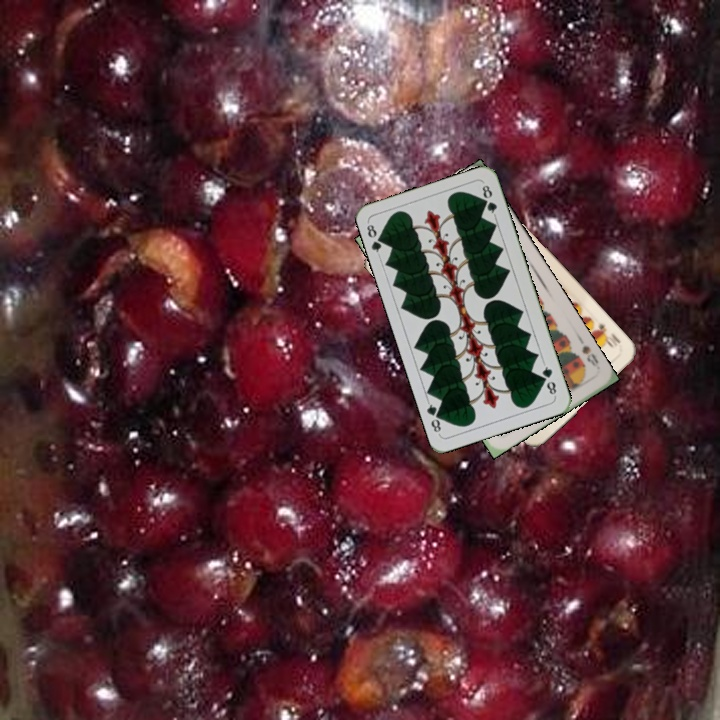E10: (591, 318, 623, 350)
G8: (362, 219, 388, 259), (538, 359, 559, 399)
S8: (578, 341, 601, 369)
